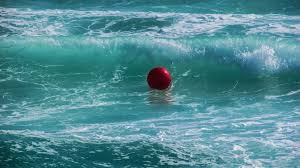buoy: (146, 67, 172, 89)
